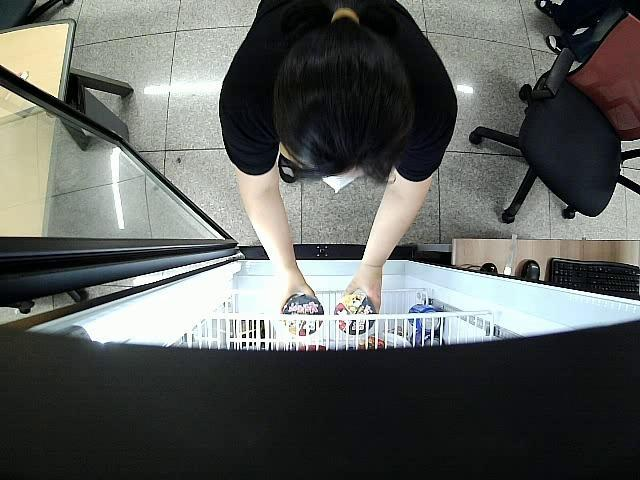08_buldak_S: (282, 294, 322, 335), (336, 295, 375, 334)
